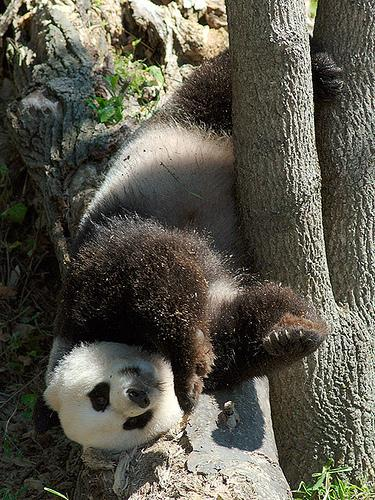panda: (44, 50, 327, 450)
